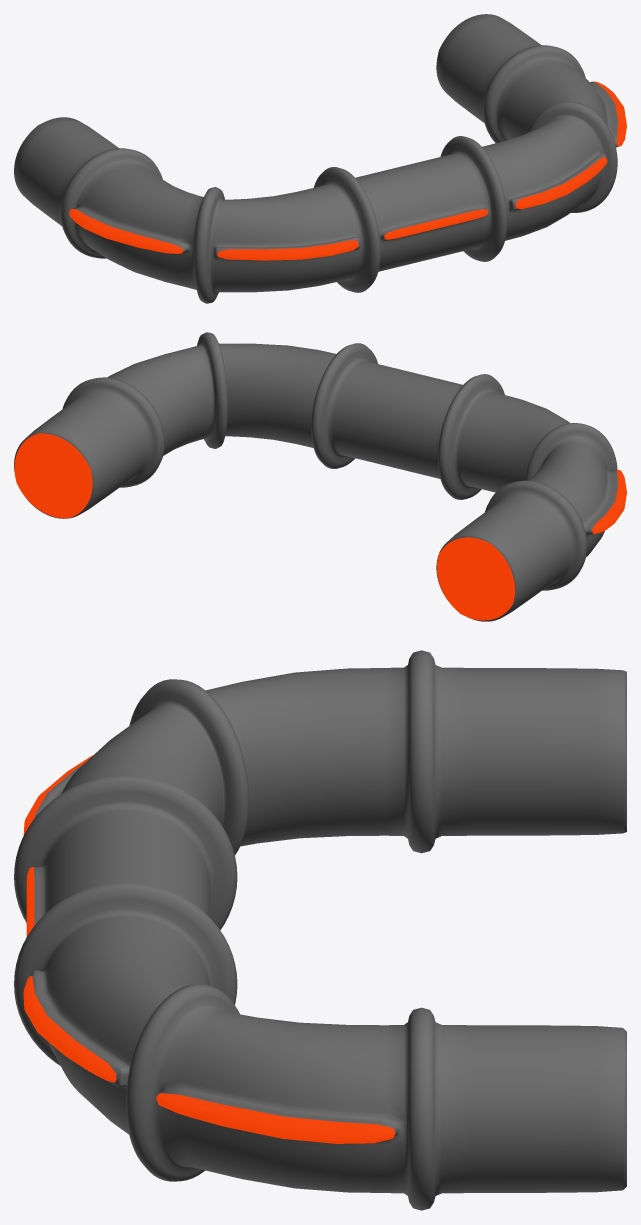
The model's file is ValvePipeDES.fbx.
The picture shows the model from 3 angles, top to bottom: view 1: azimuth 30°, elevation 25°; view 2: azimuth 150°, elevation 25°; view 3: azimuth 270°, elevation 25°; orthographic projection. The views are drawn at different scales.
Parts seen in each view (by area): view 1: Pipe; view 2: Pipe; view 3: Pipe.
Boxes of the visible parts, x1=… form: Pipe: x1=14, y1=14, x2=626, y2=303; Pipe: x1=14, y1=332, x2=626, y2=621; Pipe: x1=14, y1=650, x2=626, y2=1210.
Bounding box in the file's own units: 1259 × 264 × 725.
